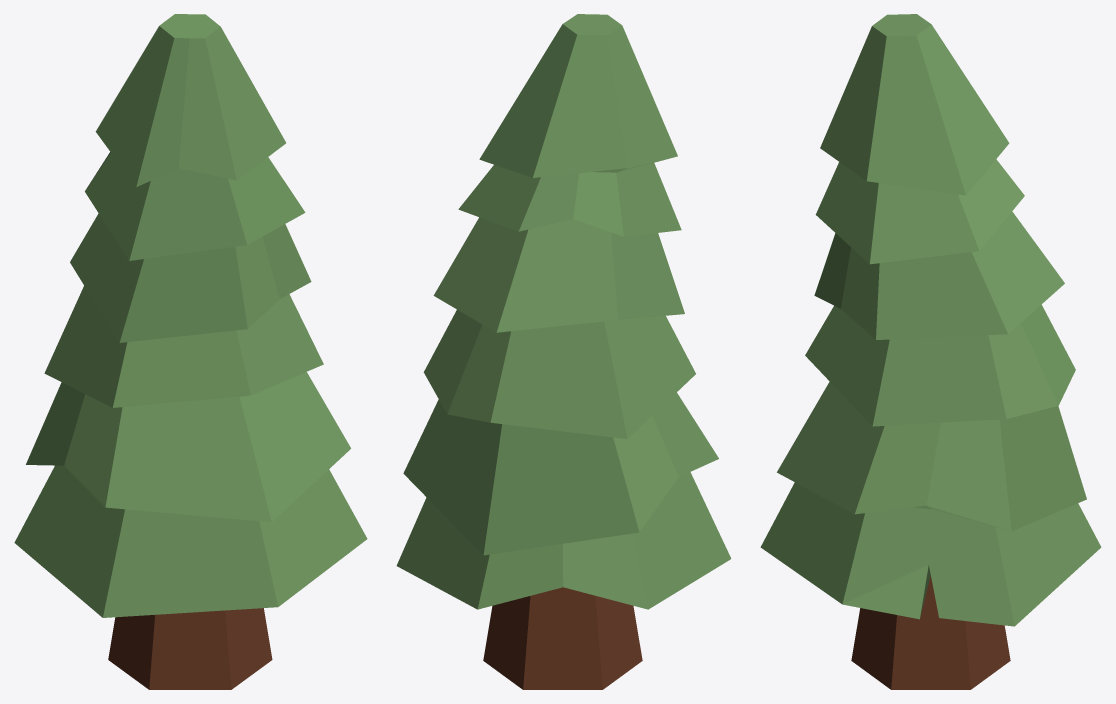
Rendered from Pine Tree.fbx.
3 renders of one model, left to right at view 1: azimuth 30°, elevation 25°; view 2: azimuth 150°, elevation 25°; view 3: azimuth 270°, elevation 25°, orthographic. The views are drawn at different scales.
Parts seen in each view (by area): view 1: Cylinder.001, Cylinder.002, Cylinder.006, Cylinder.003, Cylinder.004, Cylinder.005, Cylinder; view 2: Cylinder.002, Cylinder.003, Cylinder.001, Cylinder.004, Cylinder.006, Cylinder, Cylinder.005; view 3: Cylinder.001, Cylinder.002, Cylinder.006, Cylinder.003, Cylinder.004, Cylinder.005, Cylinder.
Part boxes in pixels (x1=…): Cylinder.001: x1=14, y1=465, x2=367, y2=617; Cylinder.002: x1=26, y1=372, x2=350, y2=522; Cylinder.006: x1=95, y1=14, x2=285, y2=186; Cylinder.003: x1=44, y1=286, x2=323, y2=407; Cylinder.004: x1=70, y1=213, x2=311, y2=342; Cylinder.005: x1=85, y1=152, x2=305, y2=260; Cylinder: x1=108, y1=608, x2=272, y2=689; Cylinder.002: x1=403, y1=392, x2=718, y2=555; Cylinder.003: x1=423, y1=309, x2=695, y2=438; Cylinder.001: x1=396, y1=472, x2=731, y2=609; Cylinder.004: x1=433, y1=217, x2=684, y2=332; Cylinder.006: x1=479, y1=14, x2=677, y2=177; Cylinder: x1=483, y1=587, x2=642, y2=689; Cylinder.005: x1=458, y1=163, x2=681, y2=236; Cylinder.001: x1=760, y1=482, x2=1101, y2=626; Cylinder.002: x1=777, y1=381, x2=1086, y2=531; Cylinder.006: x1=820, y1=14, x2=1009, y2=195; Cylinder.003: x1=805, y1=304, x2=1075, y2=426; Cylinder.004: x1=814, y1=211, x2=1064, y2=339; Cylinder.005: x1=815, y1=159, x2=1024, y2=264; Cylinder: x1=851, y1=575, x2=1010, y2=689.
Size of the model in its own units: 207 by 481 by 236.
